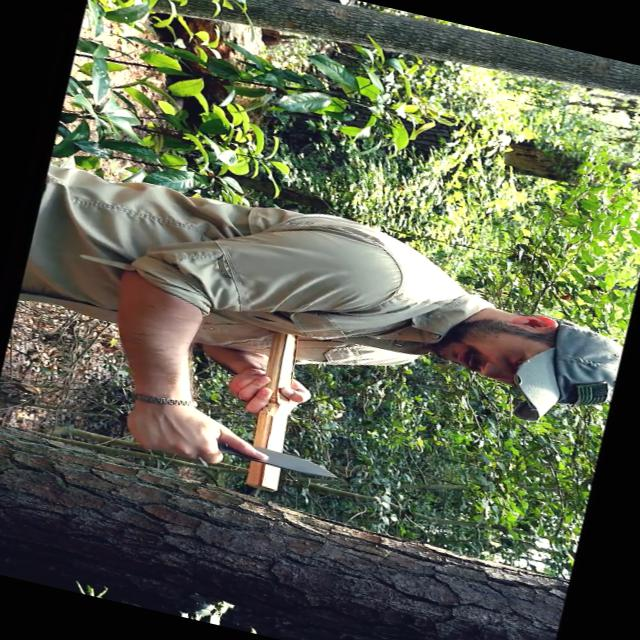knife: (150, 413, 350, 497)
